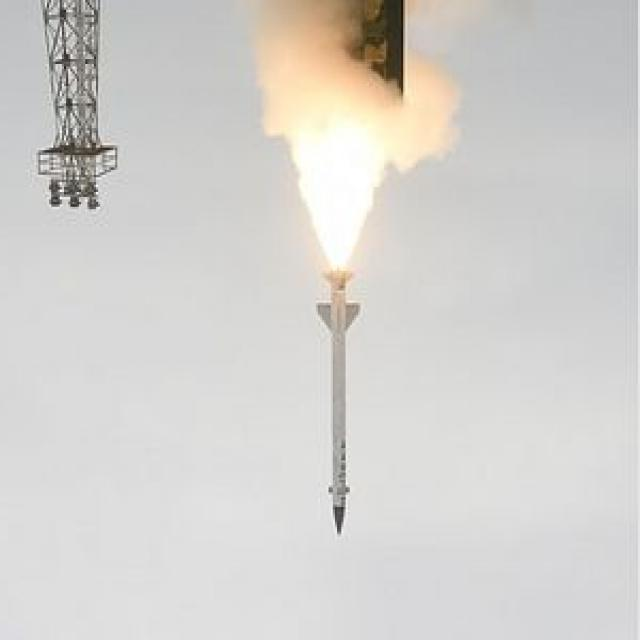missile: (313, 262, 367, 547)
